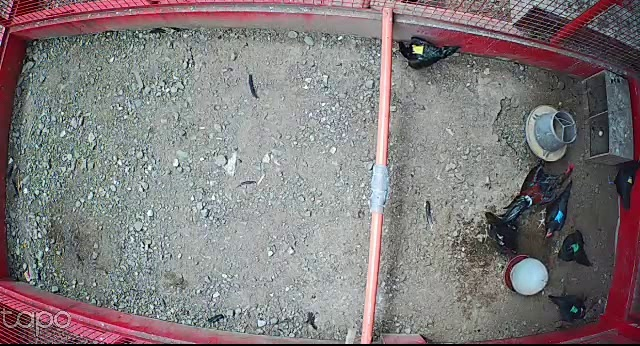Chicken: (535, 180, 579, 248), (393, 34, 465, 70), (546, 227, 597, 271), (606, 156, 640, 216), (478, 210, 522, 254), (547, 291, 592, 327)
Drinker: (504, 252, 549, 297)
Feeder: (521, 103, 579, 164)
Rooster: (498, 161, 577, 222)
Saddle_Color_Blue: (553, 212, 565, 222)
Saddle_Color_Yellow: (410, 43, 427, 55)
Saddle_Color_YellowGreen: (628, 175, 633, 186)
